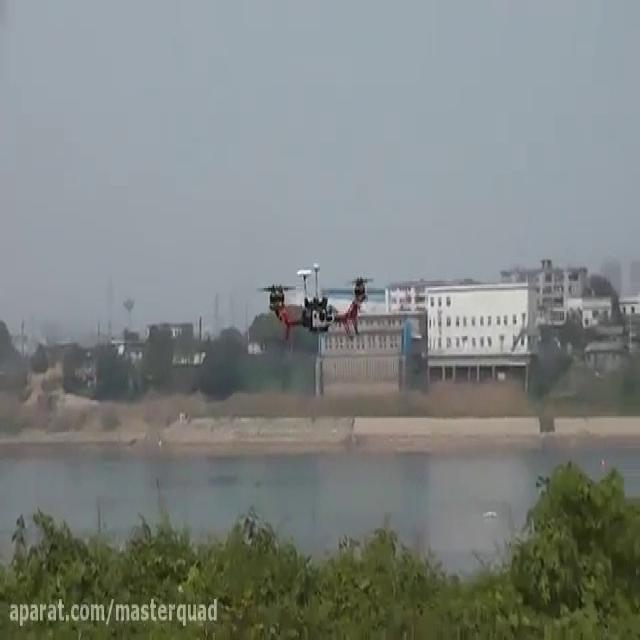drone: (252, 258, 379, 345)
